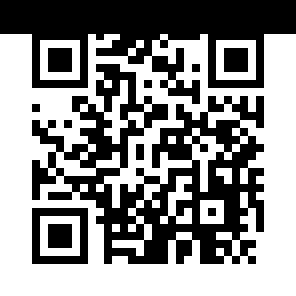QR_CODE: (21, 15, 278, 274)
